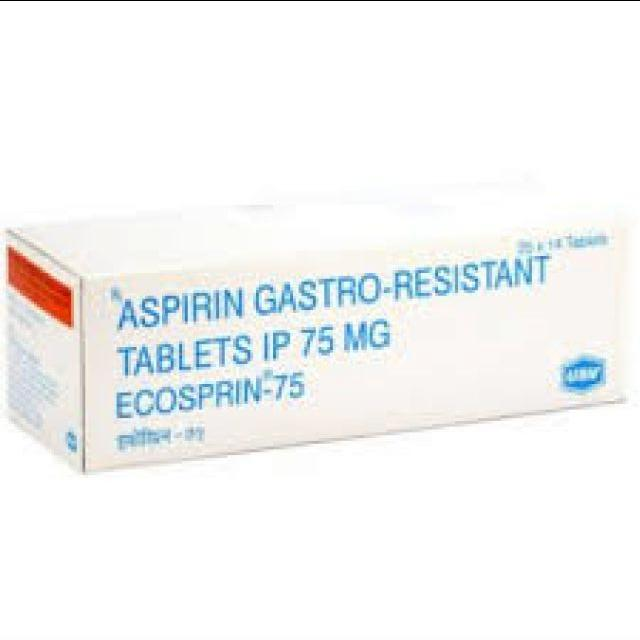authentic: (0, 185, 640, 478)
